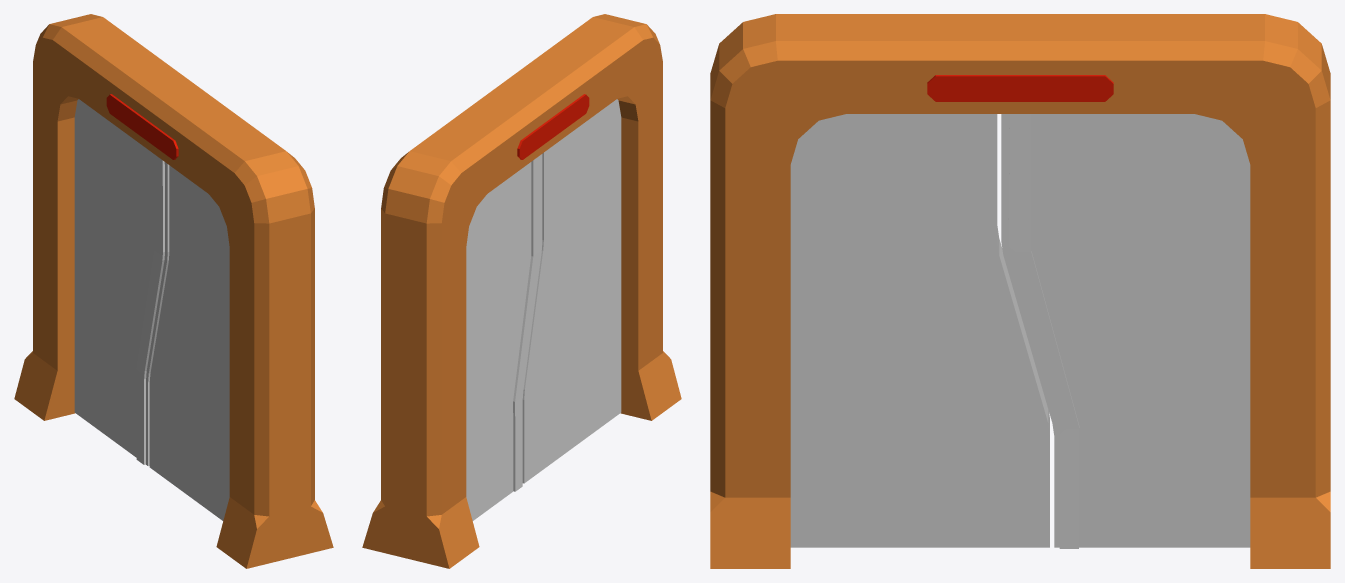
File: Scifidoor.fbx
The picture shows the model from 3 angles, left to right: view 1: azimuth 30°, elevation 25°; view 2: azimuth 150°, elevation 25°; view 3: azimuth 270°, elevation 25°; orthographic projection. The views are drawn at different scales.
Parts seen in each view (by area): view 1: Door_Frame, Door_right, Door_left; view 2: Door_Frame, Door_left, Door_right; view 3: Door_Frame, Door_left, Door_right.
Boxes of the visible parts, x1,y1,x2,y2 form: Door_Frame: (14,14,333,568); Door_right: (74,99,169,466); Door_left: (149,165,229,520); Door_Frame: (362,14,681,568); Door_left: (522,99,621,483); Door_right: (466,154,542,520); Door_Frame: (710,14,1330,568); Door_left: (790,114,1049,547); Door_right: (1001,114,1250,548).
Size of the model in its own units: 230 by 968 by 1061.
